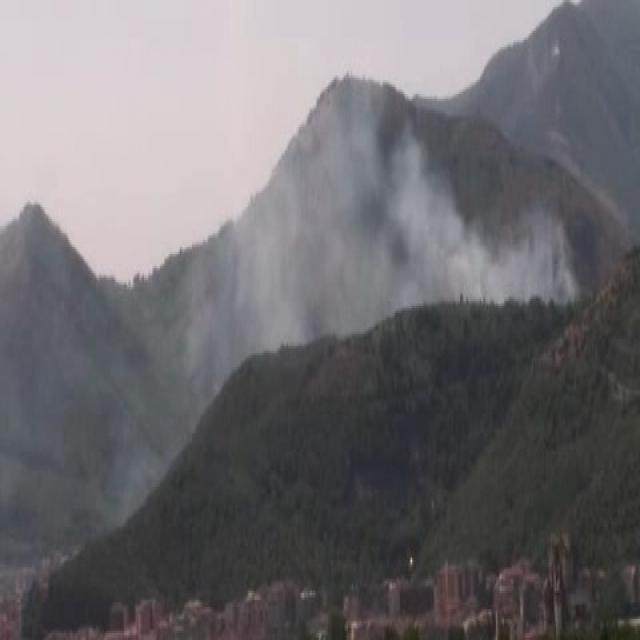smoke: (318, 99, 501, 319)
